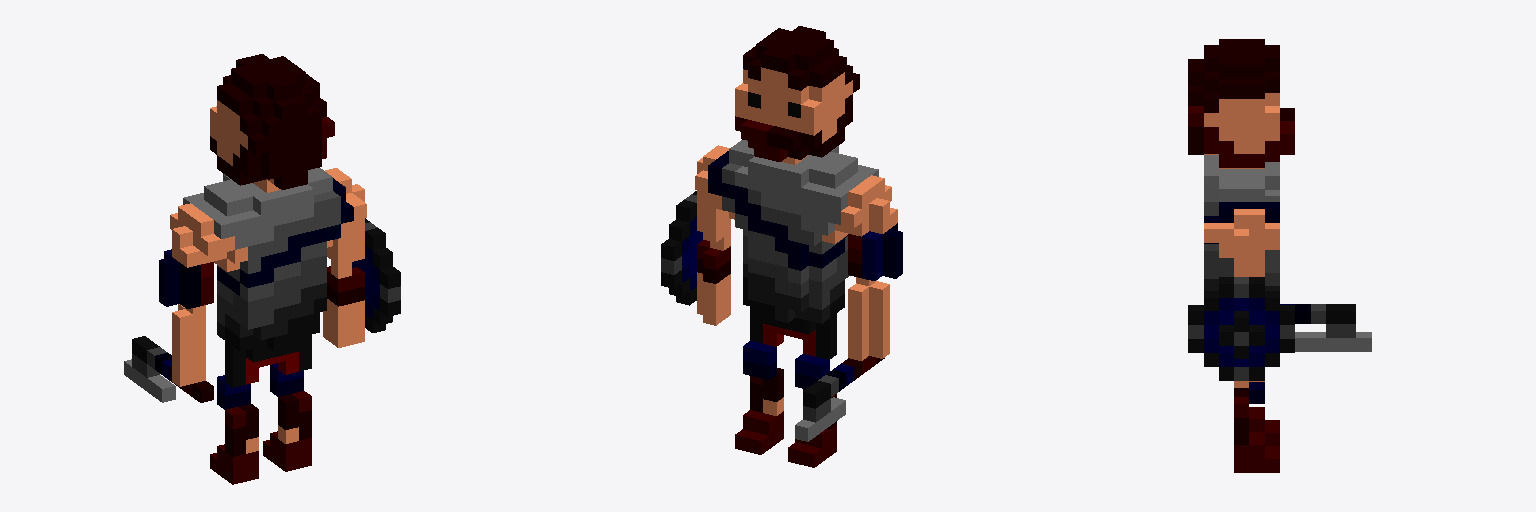
3 renders of one model, left to right at view 1: azimuth 30°, elevation 25°; view 2: azimuth 150°, elevation 25°; view 3: azimuth 270°, elevation 25°, orthographic.
Visible parts, largest first — view 1: viking.vicing; view 2: viking.vicing; view 3: viking.vicing.
Part boxes in pixels (x1,y1,x2,y2): viking.vicing: (124, 54, 400, 484); viking.vicing: (661, 26, 902, 467); viking.vicing: (1188, 39, 1371, 472).
Size of the model in its own units: 1.7 by 2.9 by 1.2.
Materials: 1 (1 with a texture image).